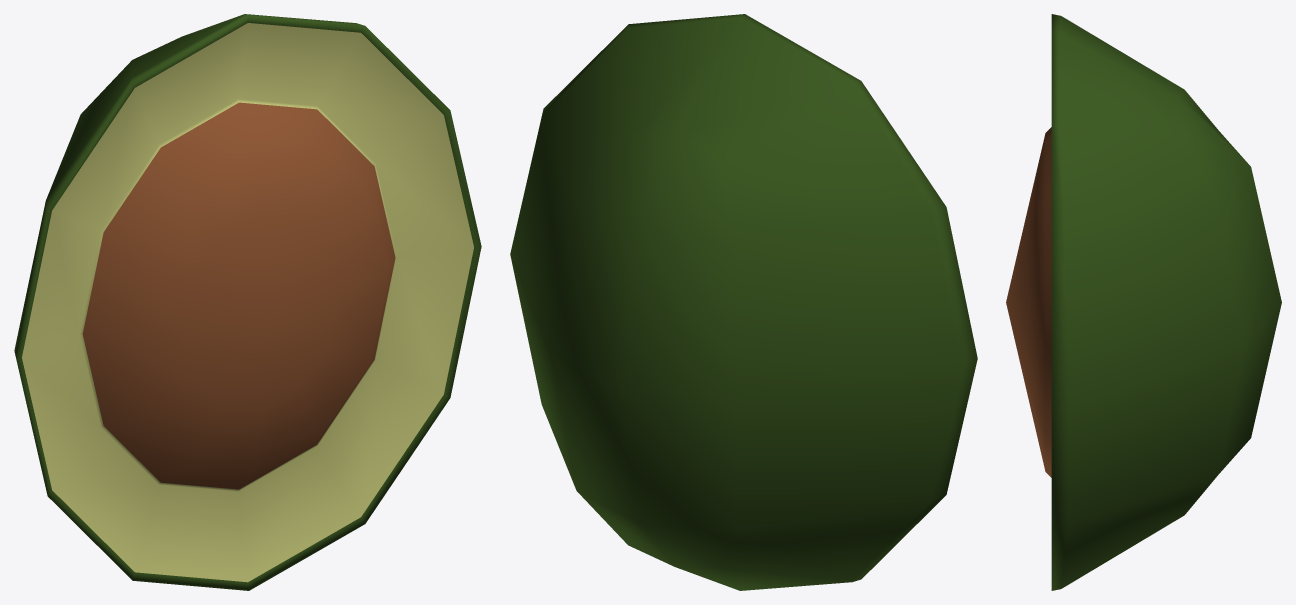
File: avocado.fbx
The picture shows the model from 3 angles, left to right: view 1: azimuth 30°, elevation 25°; view 2: azimuth 150°, elevation 25°; view 3: azimuth 270°, elevation 25°; orthographic projection. The views are drawn at different scales.
Visible parts, largest first — view 1: Freesh_avocadoo; view 2: Freesh_avocadoo; view 3: Freesh_avocadoo.
Part boxes in pixels (x1=…): Freesh_avocadoo: x1=14, y1=14, x2=481, y2=590; Freesh_avocadoo: x1=510, y1=14, x2=977, y2=590; Freesh_avocadoo: x1=1006, y1=14, x2=1281, y2=590.
Bounding box in the file's own units: 220 × 260 × 120.
